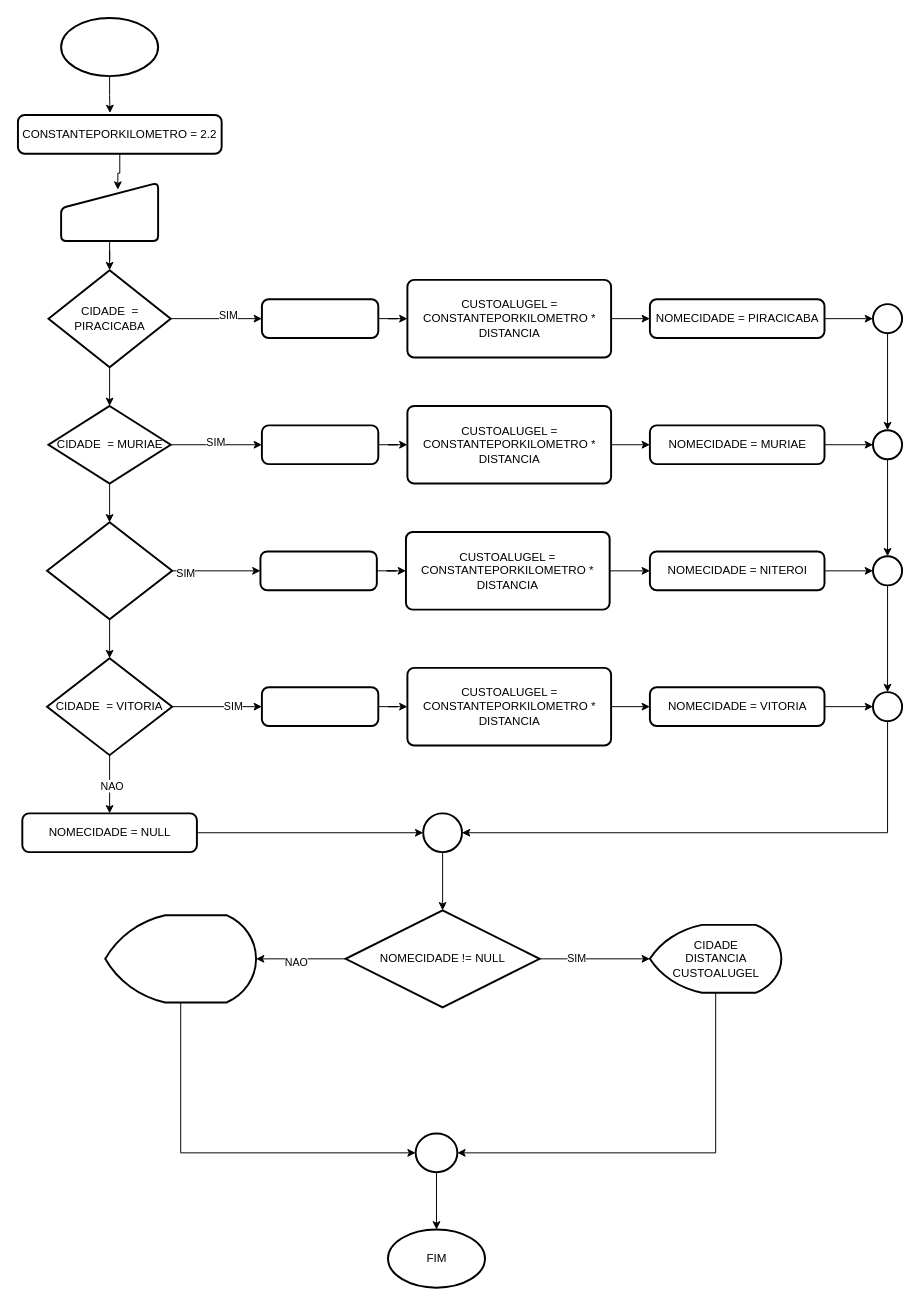
Image size: 920x1305. Some labels were removed from this diagram. The centre of each missing label's shape, as x and y in pixels:
CIDADE: the point at 109,211
CIDADE = NITEROI: the point at 109,570
Cidade não atendida pela empresa: the point at 180,958
DISTANCIA = 168: the point at 319,318
DISTANCIA = 424: the point at 318,570
DISTANCIA = 628: the point at 319,444
DISTANCIA = 949: the point at 319,706
INICIO: the point at 109,46
